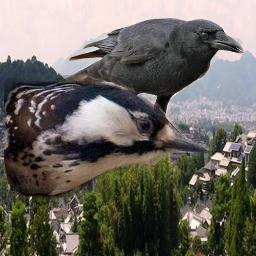Crow: (59, 18, 244, 147)
Woodpecker: (4, 72, 212, 202)
